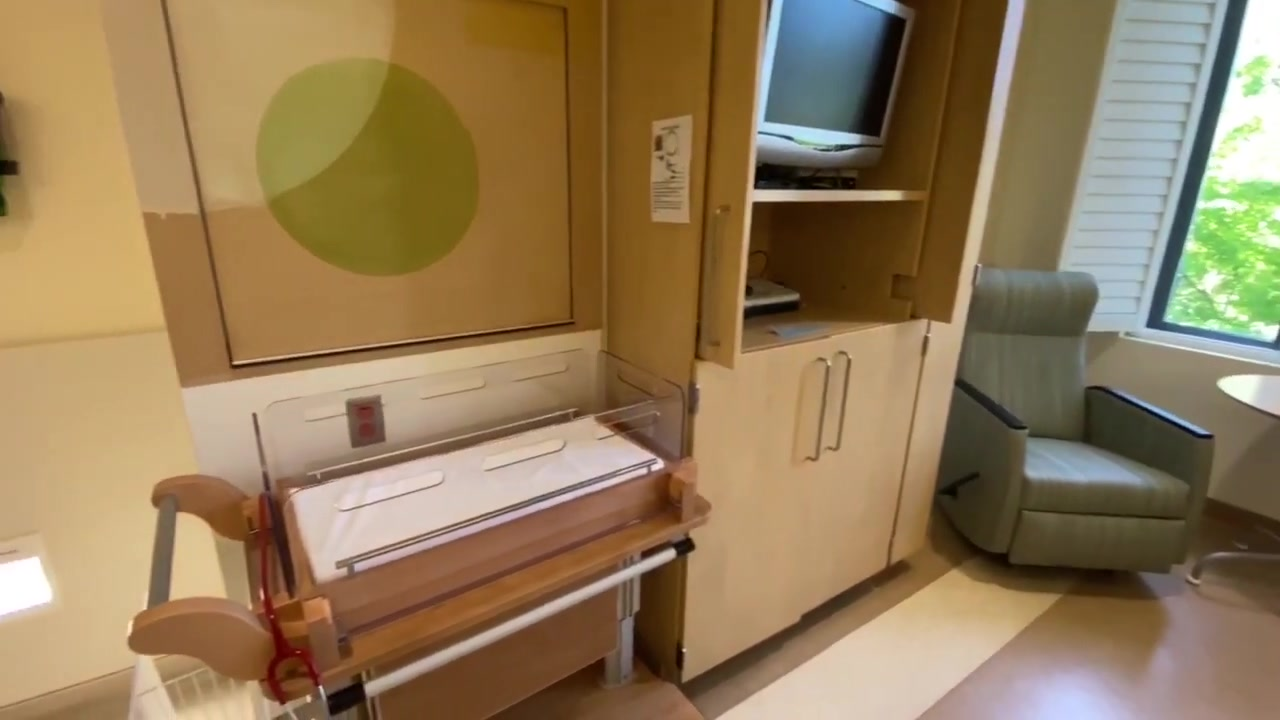TV: (758, 1, 918, 170)
chair: (936, 266, 1215, 580)
handle: (699, 197, 730, 358), (824, 344, 856, 458), (803, 351, 833, 466)
table: (1196, 365, 1280, 589)
